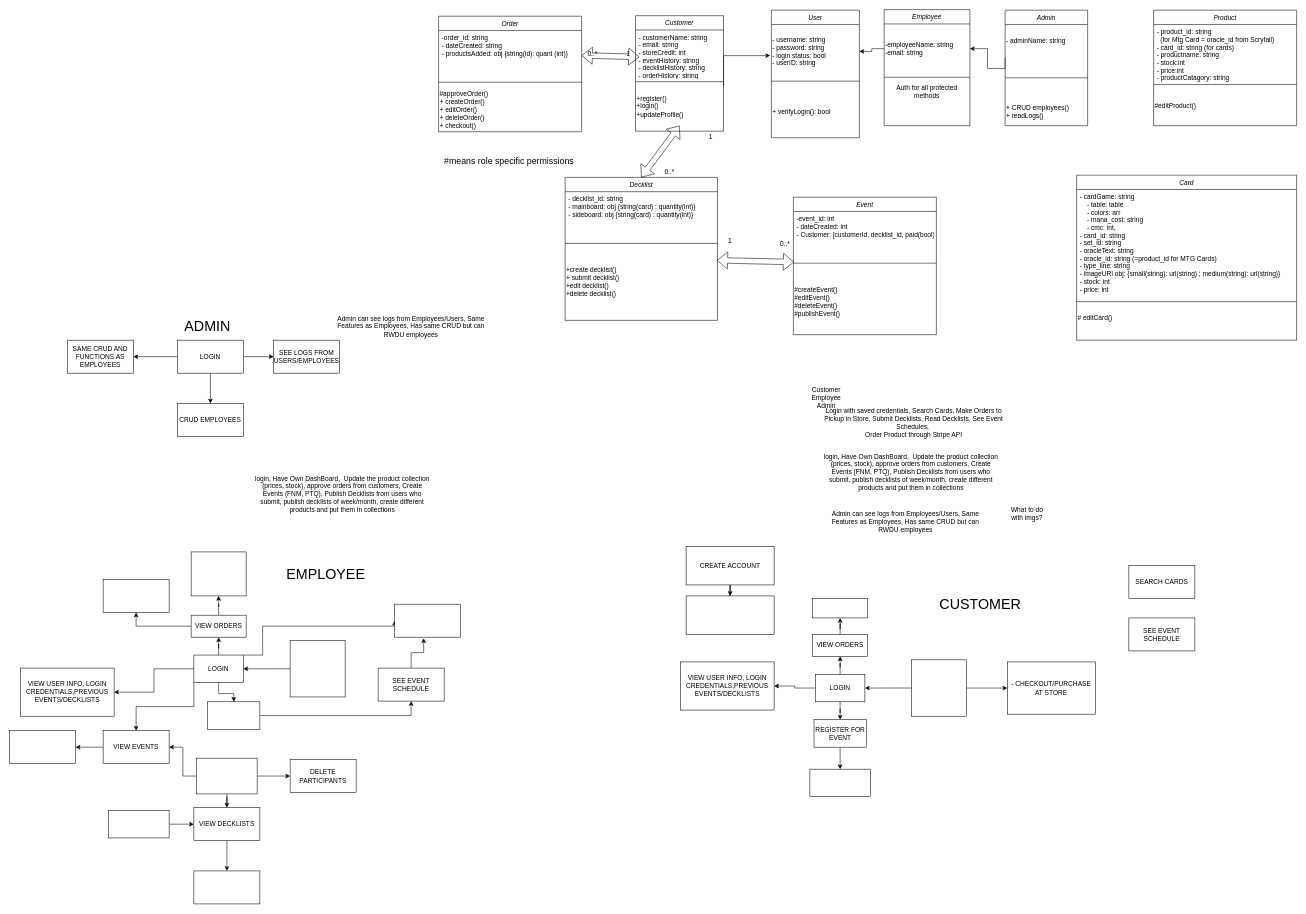
Some shapes in this 1306 by 914 pixel diagram are drawn without their labels. Each missing label, with the centre of its shape:
- ADD CARDS TO CART - REMOVE CARDS FROM CART: [939,687]
APPROVE DECKLISTS: [138,824]
APPROVE ORDER, SENDS EMAIL CONFIRM: [136,595]
CANCEL ORDERS: [840,608]
CREATE EVENTS: [233,715]
CRUD HOMEPAGE NEWSFEED WITH EVENT SCHEDULE AND DECKLISTS: [427,620]
CRUD PRODUCTS: [317,668]
DECLINE/CANCEL ORDER: [218,573]
EDIT/CANCEL EVENT: [42,747]
EMAIL CONFIRM THROUGH TWILLIO API: [730,614]
PUBLISH DECKLISTS: [226,887]
SUBMIT DECKLIST: [839,783]
VIEW PARTICIPANTS: [226,776]
